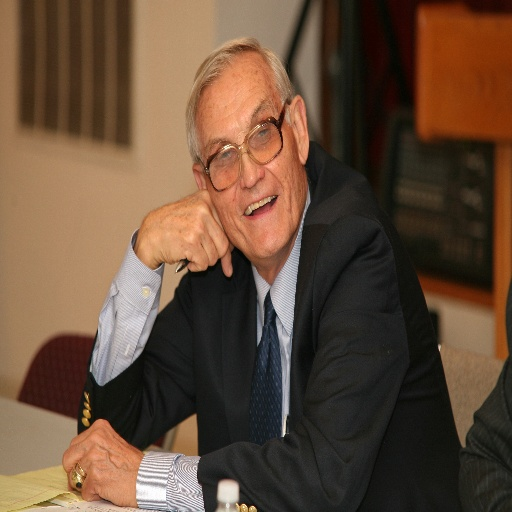hand: (145, 186, 235, 281), (62, 411, 128, 507)
